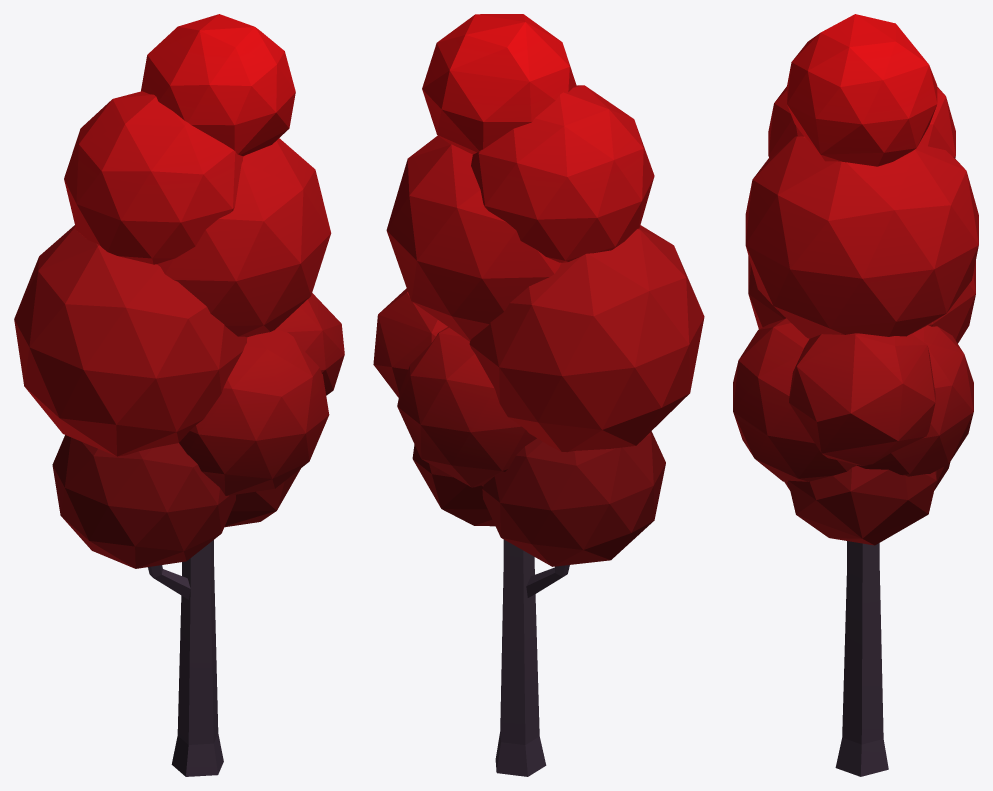
The model's file is tree_oak2.fbx.
3 renders of one model, left to right at view 1: azimuth 30°, elevation 25°; view 2: azimuth 150°, elevation 25°; view 3: azimuth 270°, elevation 25°, orthographic.
Parts seen in each view (by area): view 1: tree_oak2; view 2: tree_oak2; view 3: tree_oak2.
Part boxes in pixels (x1,y1,x2,y2): tree_oak2: (14, 14, 344, 776); tree_oak2: (373, 14, 704, 776); tree_oak2: (733, 14, 978, 776).
Bounding box in the file's own units: 142 × 327 × 97.33.
